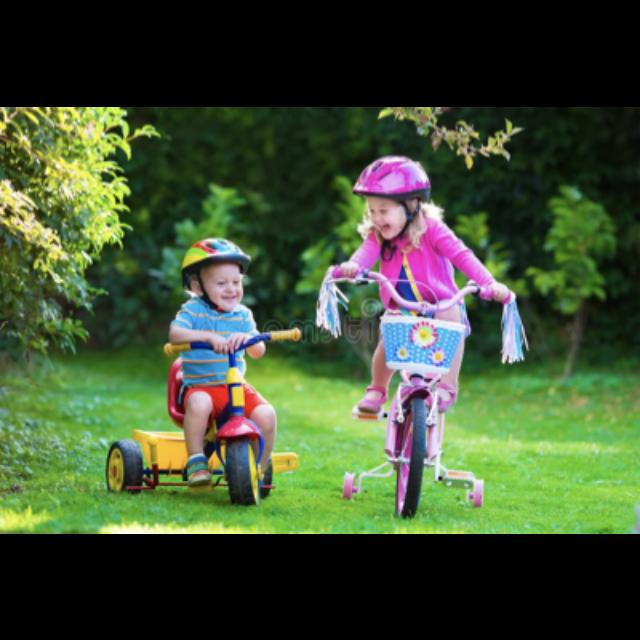With Helmet: (347, 150, 443, 242), (178, 237, 256, 315)
